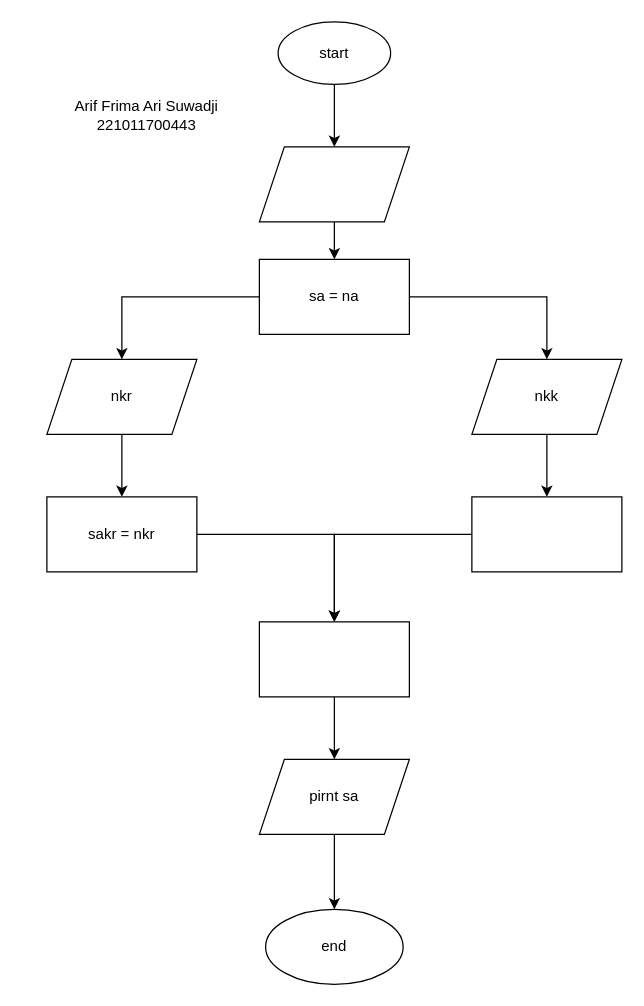
Some shapes in this 644 by 1006 pixel diagram are drawn without their labels. The centre of each missing label's shape, as x and y in pixels:
na: the point at 333,184
sa = sakr + sakk: the point at 333,659
sakk = nkk: the point at 546,534
